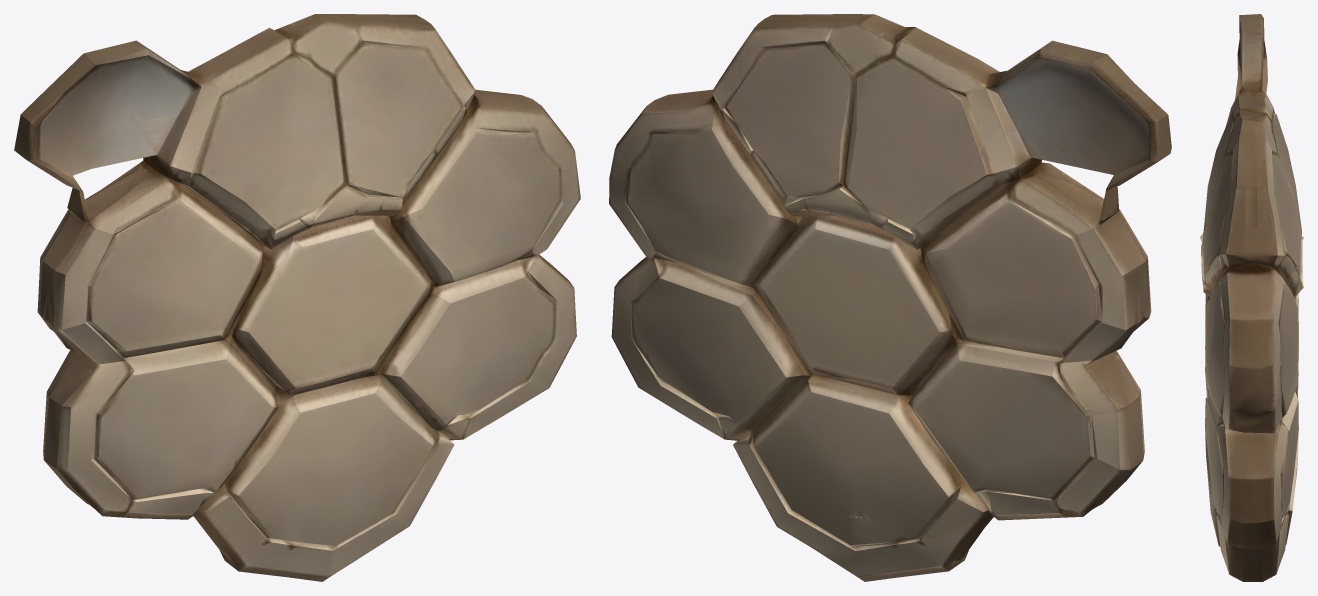
Rendered from m2ArenaTileV2.glb.
3 views of the same model, side by side, from view 1: azimuth 30°, elevation 25°; view 2: azimuth 150°, elevation 25°; view 3: azimuth 270°, elevation 25° (orthographic). The views are drawn at different scales.
Parts seen in each view (by area): view 1: model; view 2: model; view 3: model.
Boxes of the visible parts, <box> form: model: <box>14,14,580,581</box>; model: <box>609,14,1171,581</box>; model: <box>1200,14,1303,581</box>.
Bounding box in the file's own units: 1.9 × 1.89 × 0.3789.
1 material, 1 textured.
